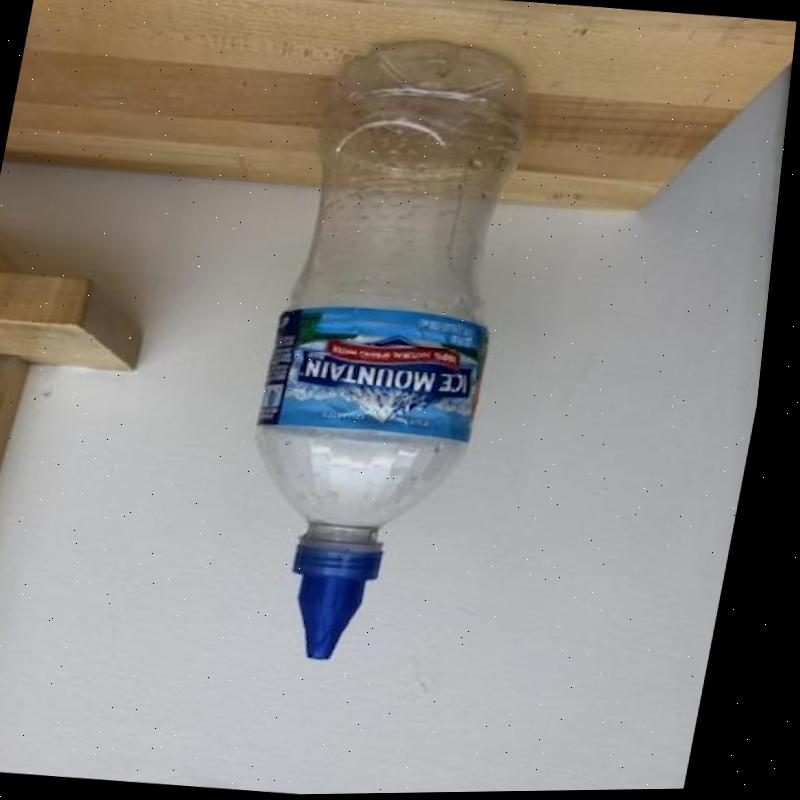botella: (220, 29, 554, 672)
